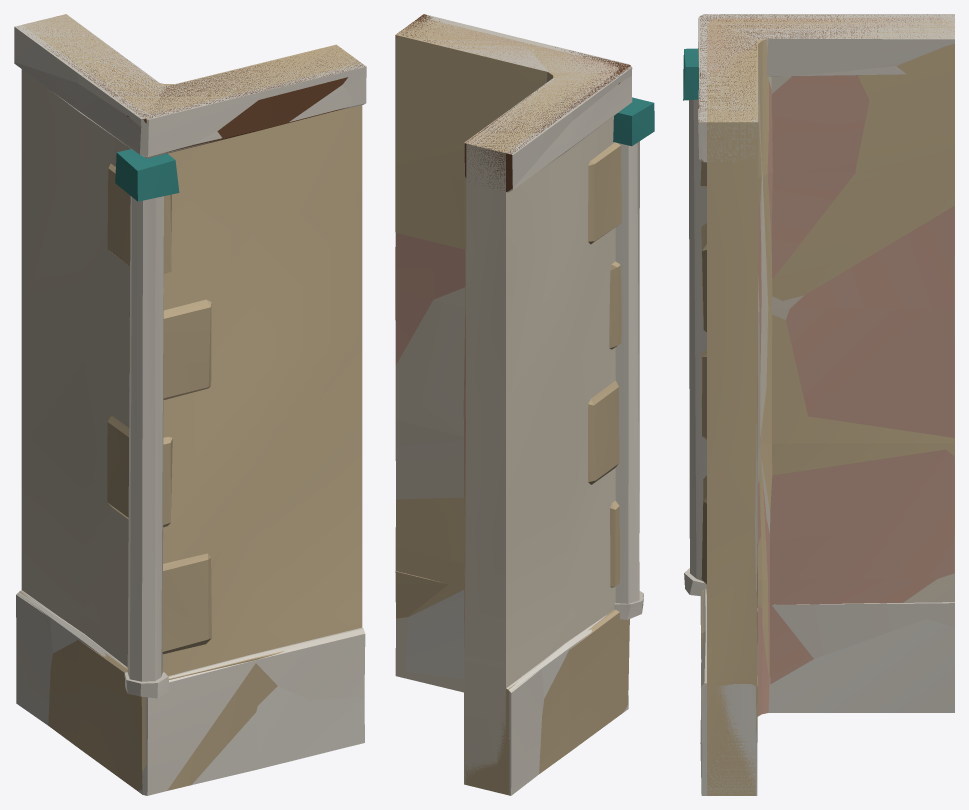
File: corner.outer.glb
3 views of the same model, side by side, from view 1: azimuth 30°, elevation 25°; view 2: azimuth 150°, elevation 25°; view 3: azimuth 270°, elevation 25° (orthographic). The views are drawn at different scales.
Visible parts, largest first — view 1: corner.outer.v0.mesh, corner.outer.v2.mesh, corner.outer.v1.mesh; view 2: corner.outer.v2.mesh, corner.outer.v0.mesh, corner.outer.v1.mesh; view 3: corner.outer.v0.mesh, corner.outer.v1.mesh, corner.outer.v2.mesh.
Boxes of the visible parts, x1,y1,x2,y2 form: corner.outer.v0.mesh: (14,14,365,784); corner.outer.v2.mesh: (19,23,364,790); corner.outer.v1.mesh: (14,14,366,795); corner.outer.v2.mesh: (395,14,654,795); corner.outer.v0.mesh: (395,16,632,784); corner.outer.v1.mesh: (395,14,632,795); corner.outer.v0.mesh: (699,14,954,795); corner.outer.v1.mesh: (698,14,954,743); corner.outer.v2.mesh: (683,14,954,785).
Size of the model in its own units: 1.1 by 3 by 1.1.
